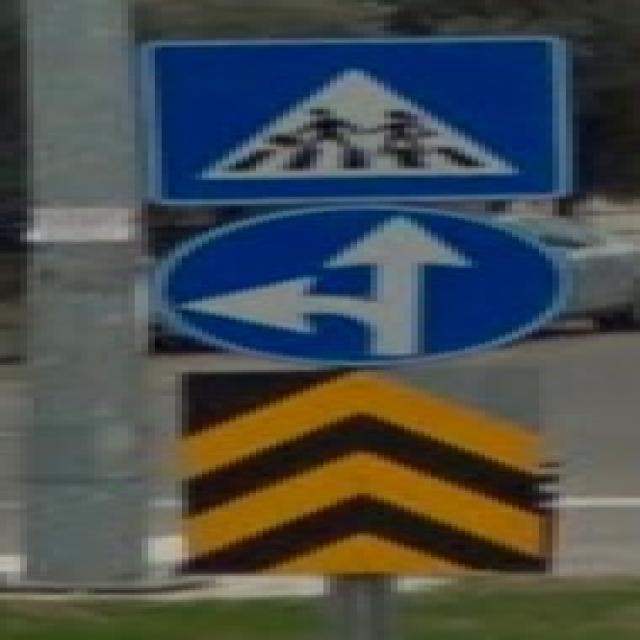Straight or Left: (146, 208, 570, 365)
